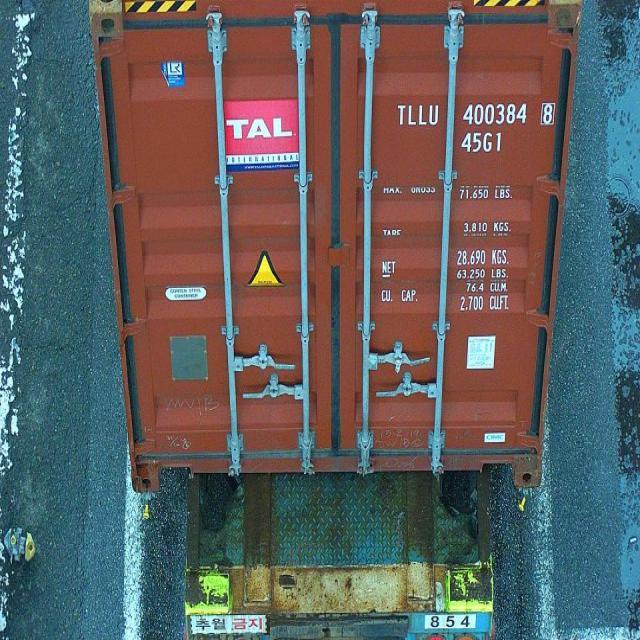ISO: (461, 131, 503, 152)
container_number: (398, 100, 557, 126)
